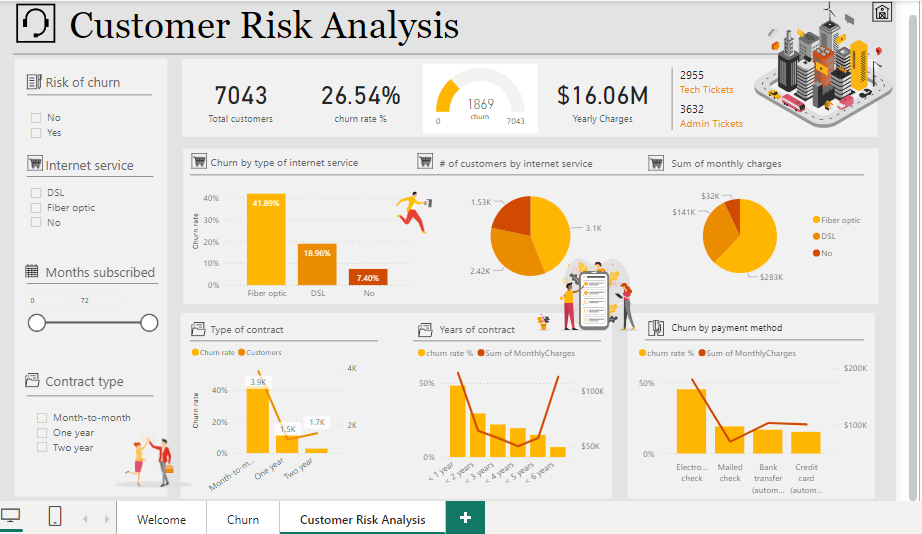

Layout of this report page (visuals, bound fields, positions):
{"tool":"powerbi","page":{"name":"Customer Risk Analysis","canvas":[1280,720],"ordinal":2},"visuals":[{"type":"basicShape","box":[249.8,87.8,1013.8,113.8],"z":0},{"type":"basicShape","box":[892.2,448.5,360.8,271],"z":1000},{"type":"basicShape","box":[251.8,448.5,628.9,271],"z":2000},{"type":"textbox","box":[94.5,4.8,1167.1,75.2],"z":3000},{"type":"basicShape","box":[9,61,1244.3,40.1],"z":4000},{"type":"basicShape","box":[251.8,214.2,1013.8,226.7],"z":5000},{"type":"basicShape","box":[18.3,81,222.8,638.6],"z":6000},{"type":"card","fields":{"Values":["Count(churn.customerID)"]},"box":[261.4,89,164.9,113.8],"z":7000},{"type":"gauge","fields":{"MaxValue":["CountNonNull(churn.customerID)"],"Y":["churn.Count of Churn for Yes"]},"box":[603.8,96.2,164,99.4],"z":8000},{"type":"slicer","fields":{"Values":["churn.Contract"]},"box":[40.5,584.5,178.4,79.1],"z":9000},{"type":"card","fields":{"Values":["Sum(churn.TotalCharges)"]},"box":[778.4,89,164.9,113.8],"z":10000},{"type":"slicer","fields":{"Values":["churn.Churn"]},"box":[31.8,156.3,173.6,57.9],"z":11000},{"type":"image","box":[557.5,242.1,66.6,129.3],"z":12000},{"type":"image","box":[150.5,610.6,136,105.1],"z":13000},{"type":"slicer","title":"Number of months subscribed","fields":{"Values":["churn.tenure"]},"box":[24.1,410.9,210.3,70.4],"z":14000},{"type":"image","box":[17.4,4.8,67.5,65.6],"z":15000},{"type":"textbox","box":[59.8,102.2,174.6,40.5],"z":16000},{"type":"basicShape","box":[28,120.6,198.7,39.5],"z":17000},{"type":"textbox","box":[59.8,374.3,185.2,39.5],"z":18000},{"type":"basicShape","box":[28,389.7,207.4,38.6],"z":19000},{"type":"basicShape","box":[28,549.8,200.6,39.5],"z":20000},{"type":"image","box":[31.8,374.3,28,34.7],"z":21000},{"type":"textbox","box":[59.8,529.6,159.2,40.5],"z":22000},{"type":"image","box":[31.8,105.1,34.7,30.9],"z":23000},{"type":"image","box":[31.8,524.7,29.9,45.3],"z":24000},{"type":"textbox","box":[59.8,221.2,180.4,40.5],"z":25000},{"type":"basicShape","box":[28,237,200.6,38.6],"z":26000},{"type":"slicer","fields":{"Values":["churn.InternetService"]},"box":[31.8,263.3,200.6,78.1],"z":27000},{"type":"card","fields":{"Values":["churn.churn rate %"]},"box":[437,89,156.3,113.8],"z":28000},{"type":"lineClusteredColumnComboChart","fields":{"Category":["churn.Contract"],"Y":["churn.churn rate %"],"Y2":["CountNonNull(churn.customerID)"]},"box":[269.1,489,246.9,230.5],"z":29000},{"type":"lineClusteredColumnComboChart","fields":{"Y":["churn.churn rate %"],"Y2":["Sum(churn.MonthlyCharges)"],"Category":["churn.Loyalty"]},"box":[591.3,489,276.8,230.5],"z":30000},{"type":"textbox","box":[296.1,220,300.9,40.5],"z":31000},{"type":"basicShape","box":[261.4,234.4,982.9,39.5],"z":32000},{"type":"clusteredColumnChart","fields":{"Category":["churn.InternetService"],"Y":["churn.churn rate %"]},"box":[269.1,242.1,322.2,198.7],"z":33000},{"type":"pieChart","fields":{"Y":["Sum(churn.MonthlyCharges)"],"Category":["churn.InternetService"]},"box":[949.1,264.3,295.2,154.3],"z":34000},{"type":"pieChart","fields":{"Category":["churn.InternetService"],"Y":["CountNonNull(churn.customerID)"]},"box":[622.2,261.4,270.1,160.1],"z":35000},{"type":"textbox","box":[954,221.9,283.6,40.5],"z":36000},{"type":"textbox","box":[622.2,221.9,285.5,40.5],"z":37000},{"type":"basicShape","box":[261.4,471.7,288.4,39.5],"z":38000},{"type":"textbox","box":[296.1,459.1,237.3,40.5],"z":39000},{"type":"textbox","box":[622.2,459.1,270.1,40.5],"z":40000},{"type":"basicShape","box":[579.7,471.7,288.4,39.5],"z":41000},{"type":"lineClusteredColumnComboChart","fields":{"Y":["churn.churn rate %"],"Y2":["Sum(churn.MonthlyCharges)"],"Category":["churn.PaymentMethod"]},"box":[907.7,489,336.6,230.5],"z":42000},{"type":"basicShape","box":[911.5,469.8,332.8,39.5],"z":43000},{"type":"textbox","box":[954.3,459.1,270.1,40.5],"z":44000},{"type":"multiRowCard","fields":{"Values":["Sum(churn.numTechTickets)","Sum(churn.numAdminTickets)"]},"box":[954,96.2,207.4,99.4],"z":45000},{"type":"image","box":[922.1,452.4,31.8,39.5],"z":46000},{"type":"image","box":[593.2,452.4,29.9,45.3],"z":47000},{"type":"image","box":[269.1,451.4,29.9,45.3],"z":48000},{"type":"image","box":[34.7,219.9,31.8,34.7],"z":49000},{"type":"image","box":[269.1,217,31.8,34.7],"z":50000},{"type":"image","box":[591.3,217,31.8,34.7],"z":51000},{"type":"image","box":[922.1,219.9,31.8,34.7],"z":52000},{"type":"textbox","box":[666.5,156.3,57.9,28.9],"z":53000},{"type":"image","box":[1072.6,0,207.4,193.9],"z":54000},{"type":"image","box":[1242,0,38,42.9],"z":55000},{"type":"image","box":[752.4,361.7,191,129.3],"z":56000}]}

Visuals, with their boxes on the page's 1280x720 design canvas (x1, y1, x2, y2). These are canvas units, not pixel positions in the 922x534 screenshot, which may show the page scaled, cropped or inside an application window:
basicShape: (250, 88, 1264, 202)
basicShape: (892, 448, 1253, 720)
basicShape: (252, 448, 881, 720)
textbox: (94, 5, 1262, 80)
basicShape: (9, 61, 1253, 101)
basicShape: (252, 214, 1266, 441)
basicShape: (18, 81, 241, 720)
card - Count(churn.customerID): (261, 89, 426, 203)
gauge - CountNonNull(churn.customerID) x churn.Count of Churn for Yes: (604, 96, 768, 196)
slicer - churn.Contract: (40, 584, 219, 664)
card - Sum(churn.TotalCharges): (778, 89, 943, 203)
slicer - churn.Churn: (32, 156, 205, 214)
image: (558, 242, 624, 371)
image: (150, 611, 286, 716)
"Number of months subscribed" slicer: (24, 411, 234, 481)
image: (17, 5, 85, 70)
textbox: (60, 102, 234, 143)
basicShape: (28, 121, 227, 160)
textbox: (60, 374, 245, 414)
basicShape: (28, 390, 235, 428)
basicShape: (28, 550, 229, 589)
image: (32, 374, 60, 409)
textbox: (60, 530, 219, 570)
image: (32, 105, 66, 136)
image: (32, 525, 62, 570)
textbox: (60, 221, 240, 262)
basicShape: (28, 237, 229, 276)
slicer - churn.InternetService: (32, 263, 232, 341)
card - churn.churn rate %: (437, 89, 593, 203)
lineClusteredColumnComboChart - churn.Contract x churn.churn rate %: (269, 489, 516, 720)
lineClusteredColumnComboChart - churn.churn rate % x Sum(churn.MonthlyCharges): (591, 489, 868, 720)
textbox: (296, 220, 597, 260)
basicShape: (261, 234, 1244, 274)
clusteredColumnChart - churn.InternetService x churn.churn rate %: (269, 242, 591, 441)
pieChart - Sum(churn.MonthlyCharges) x churn.InternetService: (949, 264, 1244, 419)
pieChart - churn.InternetService x CountNonNull(churn.customerID): (622, 261, 892, 422)
textbox: (954, 222, 1238, 262)
textbox: (622, 222, 908, 262)
basicShape: (261, 472, 550, 511)
textbox: (296, 459, 533, 500)
textbox: (622, 459, 892, 500)
basicShape: (580, 472, 868, 511)
lineClusteredColumnComboChart - churn.churn rate % x Sum(churn.MonthlyCharges): (908, 489, 1244, 720)
basicShape: (912, 470, 1244, 509)
textbox: (954, 459, 1224, 500)
multiRowCard - Sum(churn.numTechTickets) x Sum(churn.numAdminTickets): (954, 96, 1161, 196)
image: (922, 452, 954, 492)
image: (593, 452, 623, 498)
image: (269, 451, 299, 497)
image: (35, 220, 66, 255)
image: (269, 217, 301, 252)
image: (591, 217, 623, 252)
image: (922, 220, 954, 255)
textbox: (666, 156, 724, 185)
image: (1073, 0, 1280, 194)
image: (1242, 0, 1280, 43)
image: (752, 362, 943, 491)
